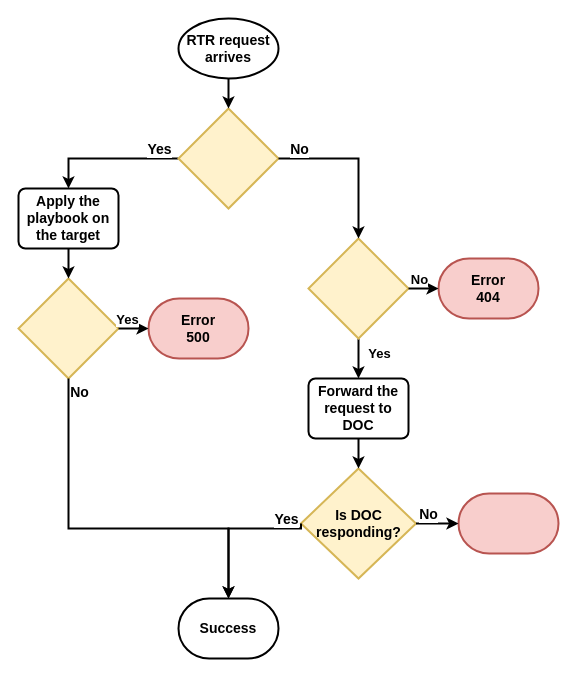
The diagram is 576 pixels wide and 676 high, and some of its shapes have lost their labels. Here are the shapes that lost their labels. From the top down, the centre of each, then its label:
At point (228, 158): "Is target managed by ePEM?".
At point (358, 288): "Is DOC module IP set?".
At point (68, 328): "Has application failed?".
At point (508, 523): "Error 408".
